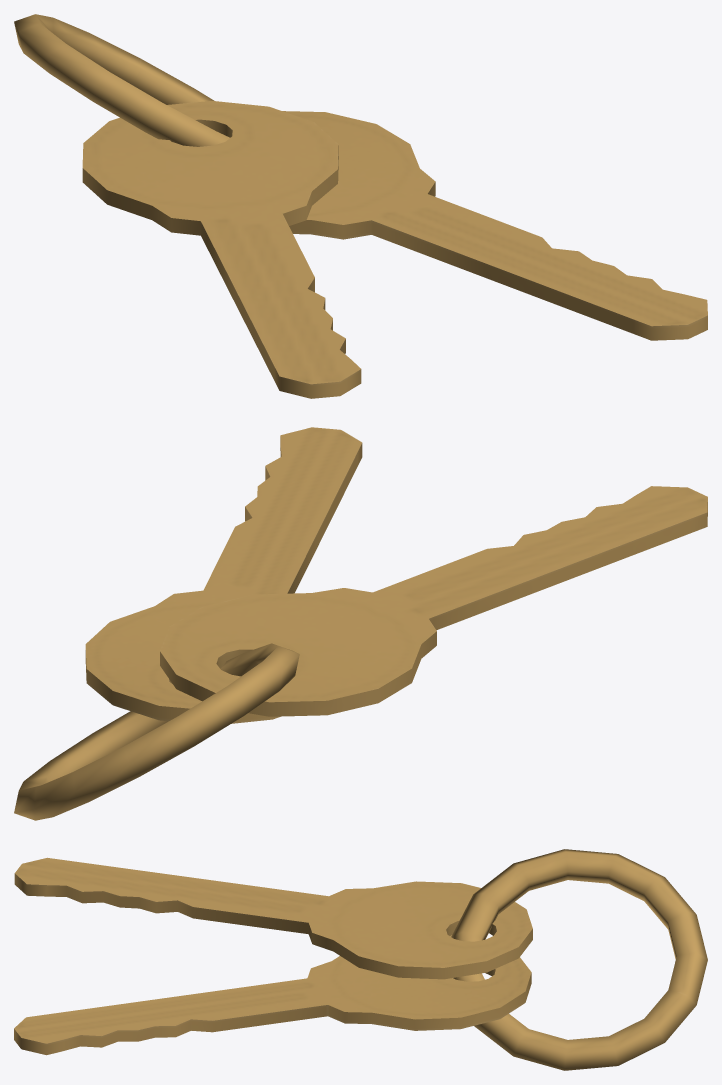
Rendered from keys_01.fbx.
3 views of the same model, one above another, from view 1: azimuth 30°, elevation 25°; view 2: azimuth 150°, elevation 25°; view 3: azimuth 270°, elevation 25° (orthographic). The views are drawn at different scales.
Parts seen in each view (by area): view 1: keys_01; view 2: keys_01; view 3: keys_01.
Part boxes in pixels (<box>): keys_01: <box>14,14,707,398</box>; keys_01: <box>14,427,707,820</box>; keys_01: <box>14,849,707,1070</box>.
Size of the model in its own units: 14.15 by 5.61 by 25.24.
